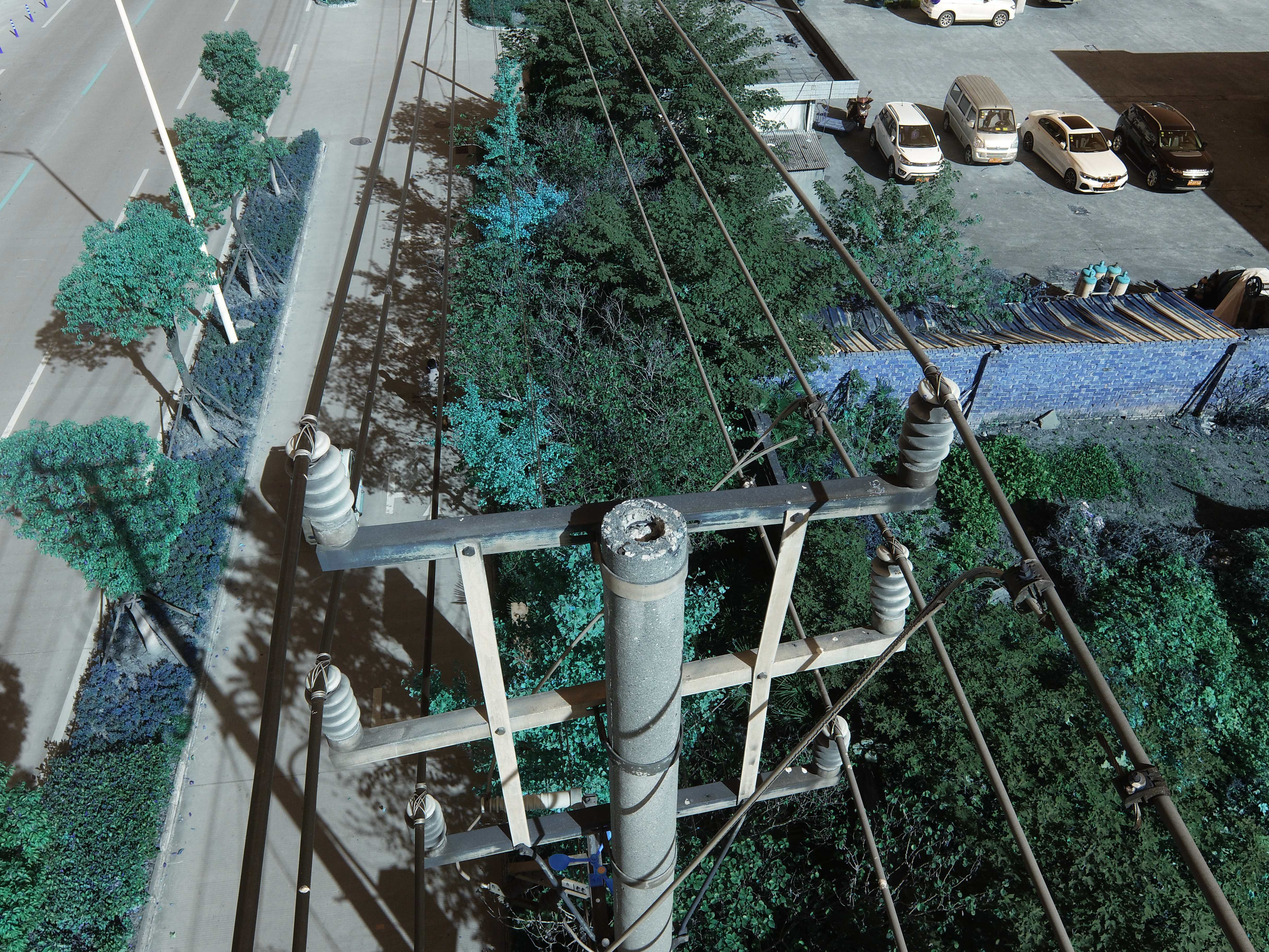severe_soiling_no_discharge_whole: (277, 428, 359, 545), (890, 373, 964, 488), (300, 662, 364, 753), (866, 538, 918, 638), (399, 789, 452, 861), (810, 715, 854, 778)
